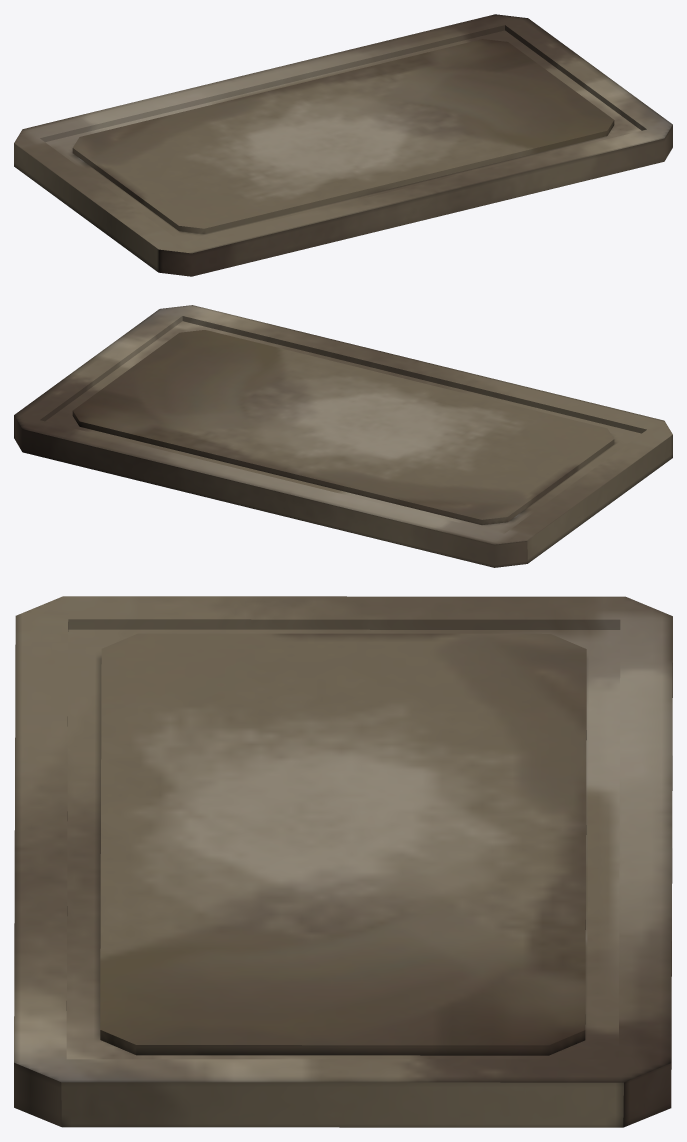
The model's file is CuttingBoard_Asset.fbx.
3 renders of one model, top to bottom at view 1: azimuth 30°, elevation 25°; view 2: azimuth 150°, elevation 25°; view 3: azimuth 270°, elevation 25°, orthographic. The views are drawn at different scales.
Parts seen in each view (by area): view 1: CuttingBoard; view 2: CuttingBoard; view 3: CuttingBoard.
Part boxes in pixels (bbox=[...]): CuttingBoard: bbox=[14, 14, 672, 276]; CuttingBoard: bbox=[14, 305, 672, 567]; CuttingBoard: bbox=[14, 596, 672, 1127].
Bounding box in the file's own units: 45.79 × 26.22 × 1.98.
Materials: 1 (1 with a texture image).
